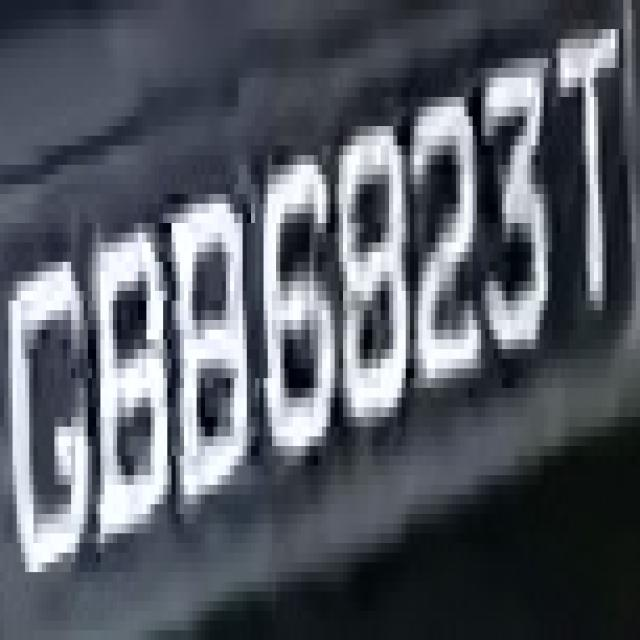2: (393, 68, 485, 436)
3: (472, 49, 544, 368)
6: (251, 107, 343, 504)
8: (322, 87, 414, 446)
B: (163, 175, 259, 572), (88, 213, 176, 572)
G: (16, 233, 104, 592)
T: (531, 0, 623, 310)
